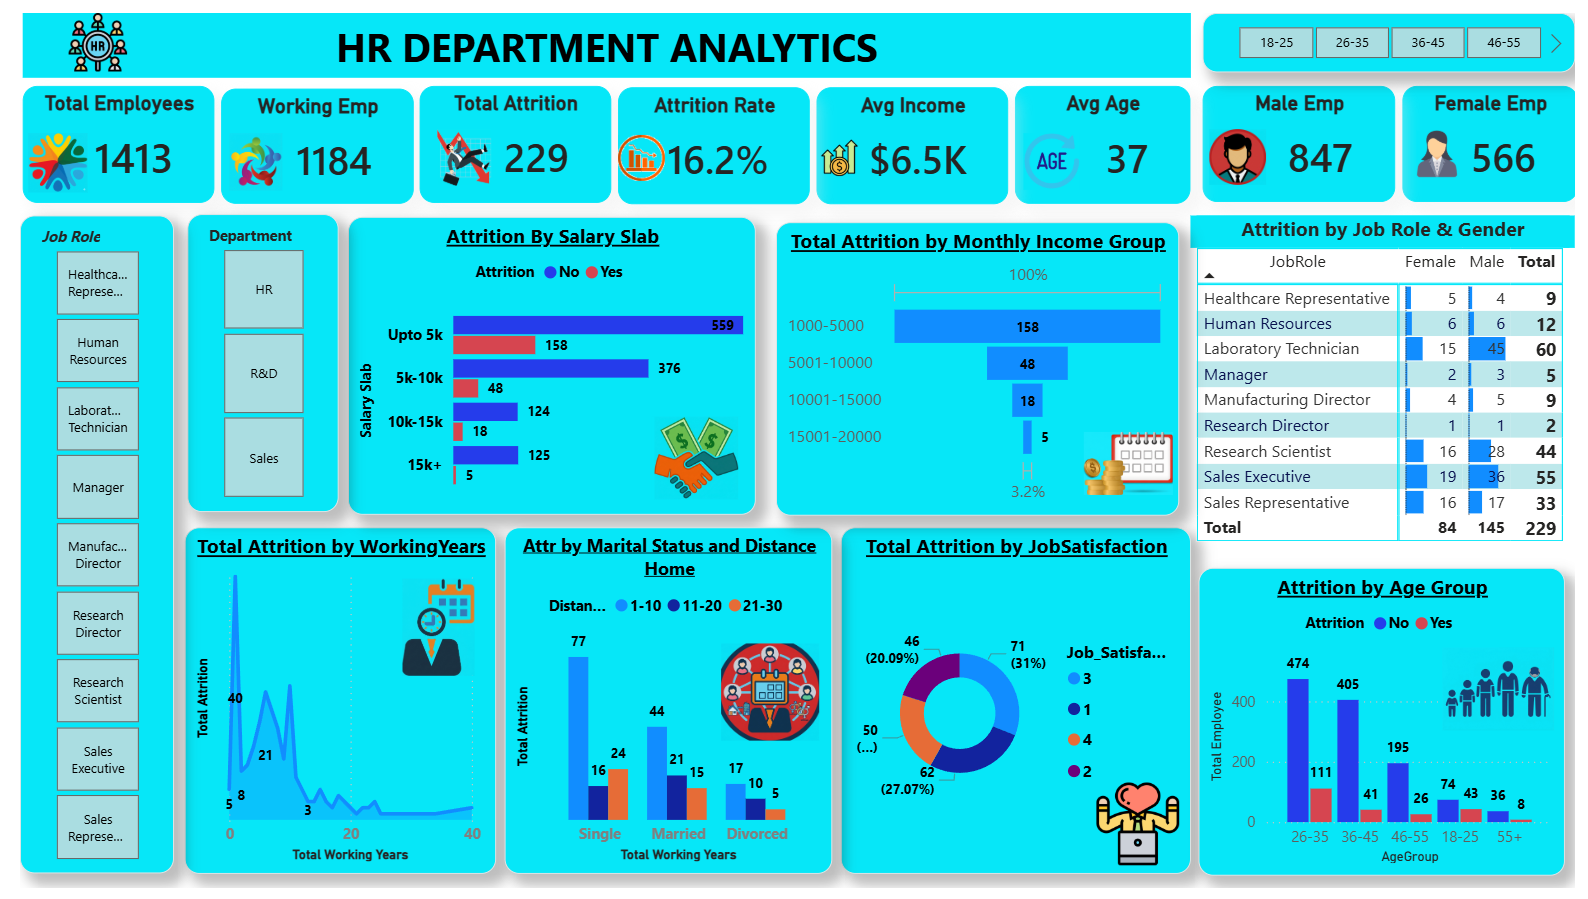

The dashboard page shown, as its layout file describes it:
{"tool":"powerbi","page":{"name":"Visualisation","canvas":[1280,720],"ordinal":0},"visuals":[{"type":"cardVisual","title":"Female Emp","fields":{"Data":["Measure.Female_Emp"]},"box":[1137.5,60,144.2,95.8],"z":0},{"type":"cardVisual","title":"Male Emp","fields":{"Data":["Measure.Male_Emp"]},"box":[972.9,60,158.6,95.7],"z":1000},{"type":"cardVisual","title":"Total Employees","fields":{"Data":["Measure.Total Employee"]},"box":[2,60,158,96],"z":2000},{"type":"cardVisual","title":"Avg Age","fields":{"Data":["Measure.Average Age"]},"box":[818.6,60,144.3,97.1],"z":3000},{"type":"cardVisual","title":"Avg Income","fields":{"Data":["Measure.Avg_Monthly_Inc"]},"box":[655.7,61.4,158,96],"z":4000},{"type":"stackedAreaChart","fields":{"Y":["Measure.Total Attrition"],"Category":["hr_data.TotalWorkingYears"]},"box":[135,423.3,256.7,296.7],"z":5000},{"type":"donutChart","fields":{"Y":["Measure.Total Attrition"],"Category":["hr_data.JobSatisfaction"]},"box":[675,423.3,288.3,296.7],"z":6000},{"type":"clusteredColumnChart","title":"Attrition by Age Group","fields":{"Category":["hr_data.AgeGroup"],"Y":["Measure.Total Employee"],"Series":["hr_data.Attrition"]},"box":[970,466.7,310,253.3],"z":7000},{"type":"textbox","box":[1.7,0,961.7,53.3],"z":8000},{"type":"image","box":[28.3,0,70,48.3],"z":9000},{"type":"cardVisual","title":"Working Emp","fields":{"Data":["Sum(hr_data.EmployeeCount)"]},"box":[165,61.7,158.3,95],"z":10000},{"type":"cardVisual","title":"Total Attrition","fields":{"Data":["Measure.Total Attrition"]},"box":[328.6,60.5,157.5,96.2],"z":11000},{"type":"cardVisual","title":"Attrition Rate","fields":{"Data":["Measure.Attrition %"]},"box":[491.7,60.9,158,96.2],"z":12000},{"type":"image","box":[4.3,98.6,52.9,48.6],"z":13000},{"type":"image","box":[336.7,95.6,57.8,46.7],"z":14000},{"type":"image","box":[491.7,96.7,38.3,45],"z":15000},{"type":"image","box":[658.6,95.7,31.4,47.1],"z":16000},{"type":"image","box":[808.3,98.3,80,46.7],"z":17000},{"type":"image","box":[972.5,95,60,46.2],"z":18000},{"type":"image","box":[1145,96.7,41.7,38.3],"z":19000},{"type":"clusteredBarChart","title":"Attrition By Salary Slab","fields":{"Y":["Measure.Total Employee"],"Category":["hr_data.SalarySlab"],"Series":["hr_data.Attrition"]},"box":[270.3,167.9,335.8,245.1],"z":20000},{"type":"image","box":[165.7,98.6,57.1,47.1],"z":21000},{"type":"pivotTable","title":"Attrition by Job Role & Gender","fields":{"Values":["Measure.Total Attrition"],"Rows":["hr_data.JobRole"],"Columns":["hr_data.Gender"]},"box":[963.3,156.7,316.7,300],"z":22000},{"type":"clusteredColumnChart","title":"Attr by Marital Status and Distance Home","fields":{"Category":["hr_data.MaritalStatus"],"Series":["hr_data.DistanceGroup"],"Y":["Measure.Total Attrition"]},"box":[398.3,423.3,270,296.7],"z":23000},{"type":"funnel","fields":{"Category":["hr_data.Monthly Income Group"],"Y":["Measure.Total Attrition"]},"box":[621.7,171.7,331.7,241.7],"z":24000},{"type":"slicer","fields":{"Values":["hr_data.Department"]},"box":[137.5,166,124.1,244.8],"z":25000},{"type":"slicer","fields":{"Values":["hr_data.JobRole"]},"box":[0,166,127.4,555],"z":26000},{"type":"slicer","fields":{"Values":["hr_data.AgeGroup"]},"box":[973,0,307,49],"z":27000},{"type":"image","box":[878.3,640,75,68.3],"z":28000},{"type":"image","box":[1178.3,525,93.3,68.3],"z":29000},{"type":"image","box":[875,336.7,73.3,68.3],"z":30000},{"type":"image","box":[520,331.7,73.3,68.3],"z":31000},{"type":"image","box":[301.7,465,85,80],"z":32000},{"type":"image","box":[573.3,518.3,88.3,80],"z":32001}]}

Visuals, with their boxes in screenshot pixels (x1, y1, x2, y2), scaled from the page's 1280x720 canvas onto the 1588x899 screenshot:
"Female Emp" cardVisual: [1411,75,1587,195]
"Male Emp" cardVisual: [1207,75,1404,194]
"Total Employees" cardVisual: [2,75,198,195]
"Avg Age" cardVisual: [1016,75,1195,196]
"Avg Income" cardVisual: [813,77,1009,197]
stackedAreaChart - Measure.Total Attrition x hr_data.TotalWorkingYears: [167,529,486,898]
donutChart - Measure.Total Attrition x hr_data.JobSatisfaction: [837,529,1195,898]
"Attrition by Age Group" clusteredColumnChart: [1203,583,1587,898]
textbox: [2,0,1195,67]
image: [35,0,122,60]
"Working Emp" cardVisual: [205,77,401,196]
"Total Attrition" cardVisual: [408,76,603,196]
"Attrition Rate" cardVisual: [610,76,806,196]
image: [5,123,71,184]
image: [418,119,489,178]
image: [610,121,658,177]
image: [817,119,856,178]
image: [1003,123,1102,181]
image: [1207,119,1281,176]
image: [1421,121,1472,169]
"Attrition By Salary Slab" clusteredBarChart: [335,210,752,516]
image: [206,123,276,182]
"Attrition by Job Role & Gender" pivotTable: [1195,196,1587,570]
"Attr by Marital Status and Distance Home" clusteredColumnChart: [494,529,829,898]
funnel - hr_data.Monthly Income Group x Measure.Total Attrition: [771,214,1183,516]
slicer - hr_data.Department: [171,207,325,513]
slicer - hr_data.JobRole: [0,207,158,898]
slicer - hr_data.AgeGroup: [1207,0,1587,61]
image: [1090,799,1183,884]
image: [1462,656,1578,741]
image: [1086,420,1176,506]
image: [645,414,736,499]
image: [374,581,480,680]
image: [711,647,821,747]
